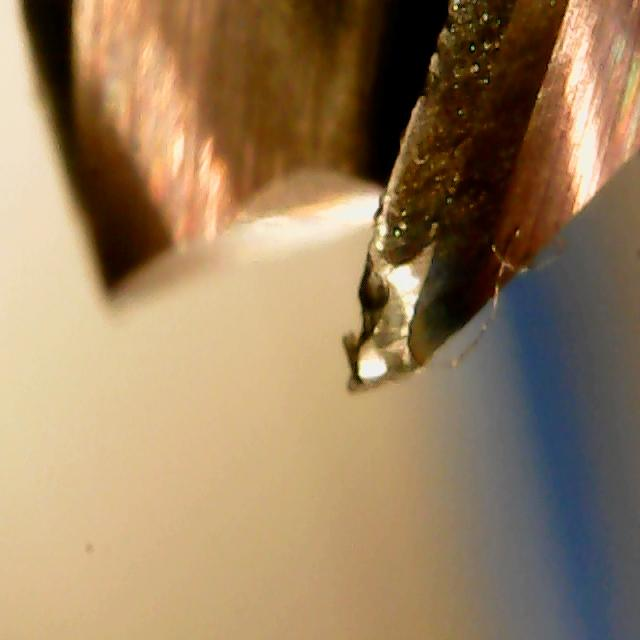Tool-wear-class-2: (337, 42, 539, 395)
